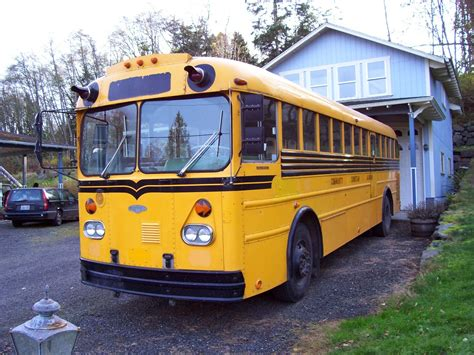bus: (75, 55, 400, 305)
